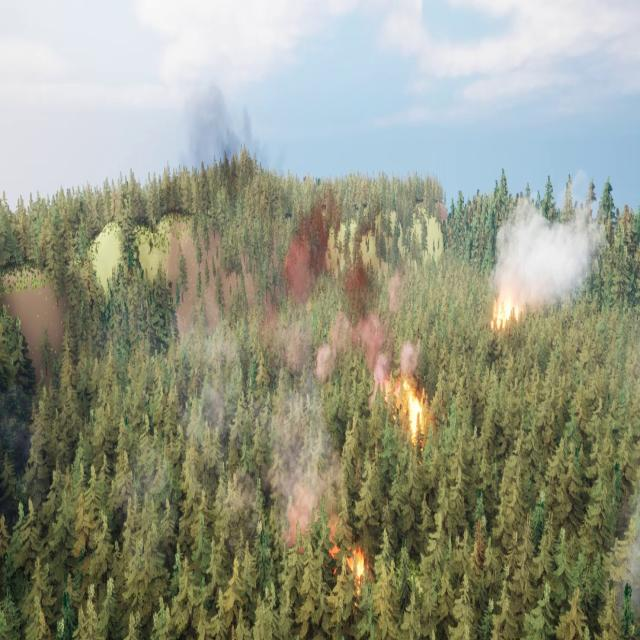fire: (375, 368, 432, 440), (329, 526, 368, 586), (492, 284, 522, 337)
smoke: (167, 82, 380, 524), (492, 178, 606, 310)
